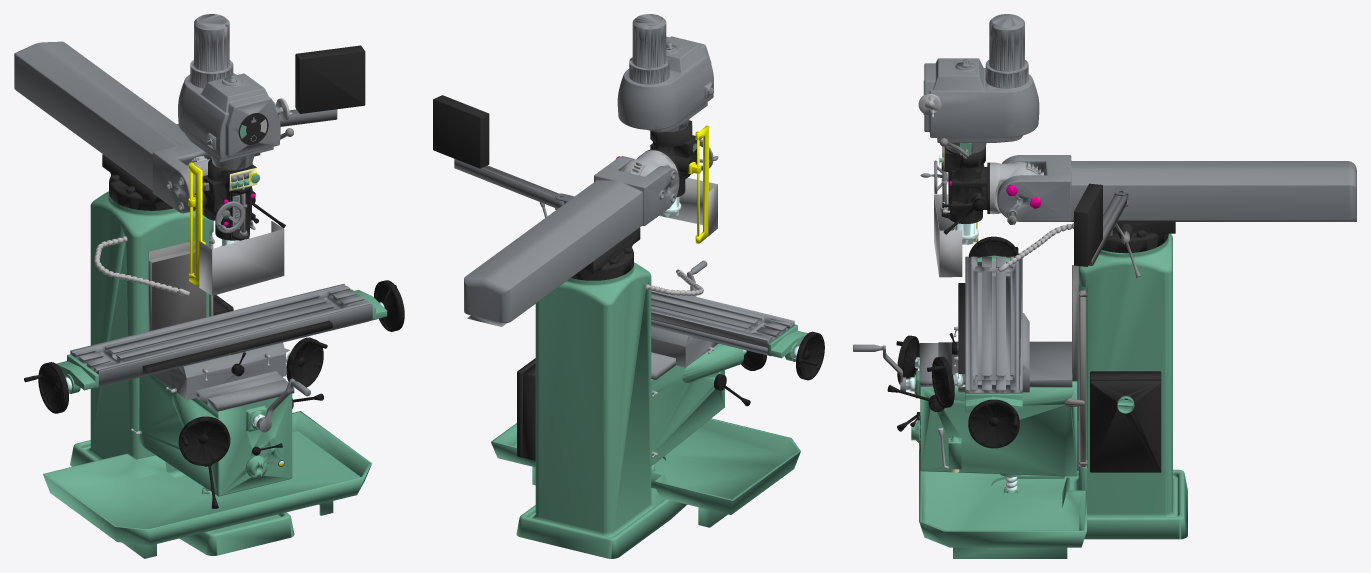
The model's file is milling.fbx.
3 renders of one model, left to right at view 1: azimuth 30°, elevation 25°; view 2: azimuth 150°, elevation 25°; view 3: azimuth 270°, elevation 25°, orthographic. The views are drawn at different scales.
Parts seen in each view (by area): view 1: Body1.003, Body1.011, Body1.007, Body1.009, Body1.008, Body1.001, Body1.004, Body1.006, Body1.012, Body1.016, Body1.015; view 2: Body1.011, Body1.003, Body1.007, Body1.009, Body1.008, Body1.015, Body1.001, Body1.012, Body1.010, Body1.016, Body1.006; view 3: Body1.003, Body1.011, Body1.007, Body1.009, Body1.008, Body1.006, Body1.004, Body1.001, Body1.010, Body1.015, Body1.005.
Boxes of the visible parts, x1,y1,x2,y2 form: Body1.003: (14, 14, 372, 432); Body1.011: (43, 191, 387, 558); Body1.007: (102, 45, 365, 373); Body1.009: (139, 125, 292, 496); Body1.008: (24, 197, 404, 508); Body1.001: (199, 98, 292, 295); Body1.004: (148, 117, 293, 464); Body1.006: (196, 371, 294, 411); Body1.012: (188, 162, 257, 287); Body1.016: (94, 119, 266, 296); Body1.015: (176, 109, 337, 126); Body1.011: (491, 262, 807, 558); Body1.003: (464, 14, 794, 367); Body1.007: (433, 95, 696, 460); Body1.009: (651, 343, 743, 465); Body1.008: (714, 331, 824, 406); Body1.015: (454, 159, 574, 209); Body1.001: (659, 177, 717, 236); Body1.012: (688, 125, 710, 243); Body1.010: (623, 150, 714, 458); Body1.016: (644, 269, 703, 295); Body1.006: (651, 352, 675, 379); Body1.003: (853, 14, 1356, 470); Body1.011: (919, 233, 1187, 558); Body1.007: (941, 146, 1175, 472); Body1.009: (911, 143, 1134, 477); Body1.008: (887, 198, 1019, 451); Body1.006: (919, 341, 1072, 387); Body1.004: (939, 138, 1140, 467); Body1.001: (918, 93, 962, 469); Body1.010: (942, 162, 1043, 367); Body1.015: (1088, 186, 1128, 265); Body1.005: (906, 223, 1017, 490).
Bounding box in the file's own units: 150 × 190 × 176.
